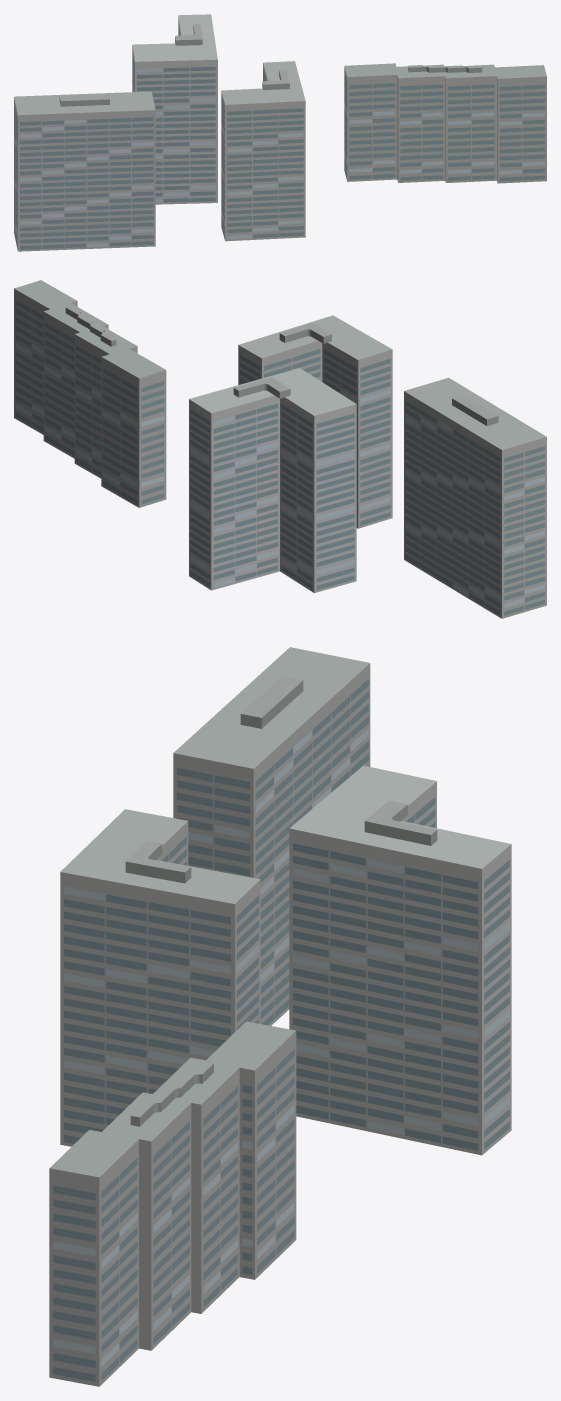
The model's file is apt-a13384303.glb.
The picture shows the model from 3 angles, top to bottom: view 1: azimuth 30°, elevation 25°; view 2: azimuth 150°, elevation 25°; view 3: azimuth 270°, elevation 25°; orthographic projection. The views are drawn at different scales.
Parts seen in each view (by area): view 1: apt-a13384303; view 2: apt-a13384303; view 3: apt-a13384303.
Boxes of the visible parts, x1,y1,x2,y2 form: apt-a13384303: (14, 14, 546, 251); apt-a13384303: (14, 280, 546, 618); apt-a13384303: (49, 647, 511, 1386).
Size of the model in its own units: 219 by 65 by 91.49.
